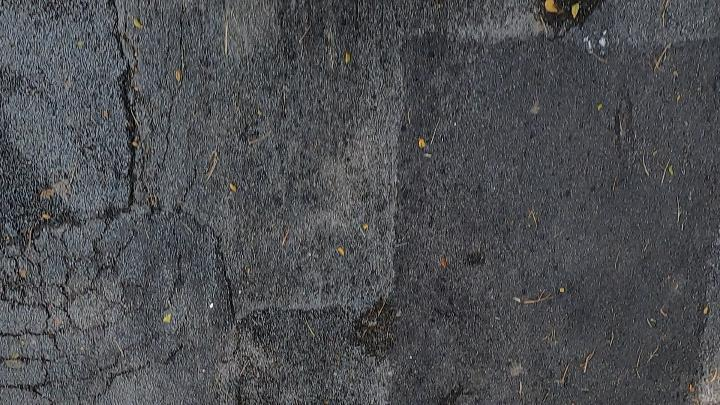Crack: (103, 14, 144, 224), (174, 196, 240, 326), (0, 215, 79, 307), (103, 22, 140, 218), (174, 203, 235, 320), (92, 340, 182, 405), (0, 314, 56, 405), (14, 238, 56, 314), (92, 360, 157, 404), (49, 223, 75, 301), (0, 378, 46, 395), (0, 323, 55, 334), (3, 355, 45, 369), (160, 343, 183, 364), (4, 271, 10, 284)
